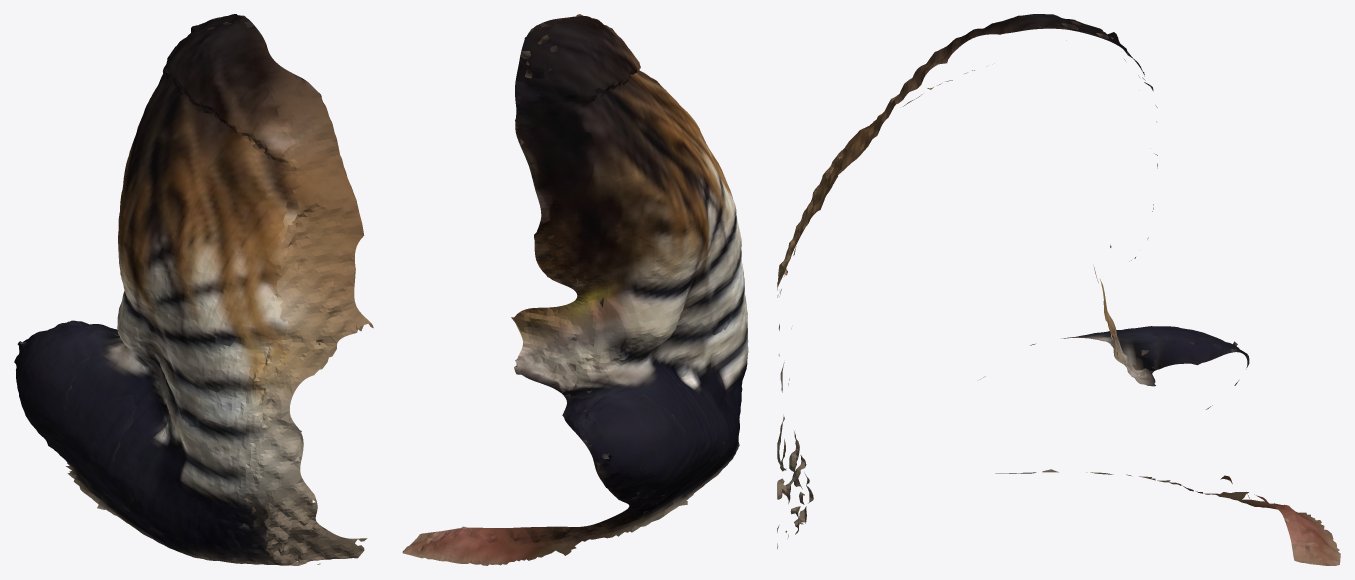
The picture shows the model from 3 angles, left to right: view 1: azimuth 30°, elevation 25°; view 2: azimuth 150°, elevation 25°; view 3: azimuth 270°, elevation 25°; orthographic projection. The views are drawn at different scales.
Size of the model in its own units: 0.3122 by 0.6917 by 0.6675.
1 material, 1 textured.
